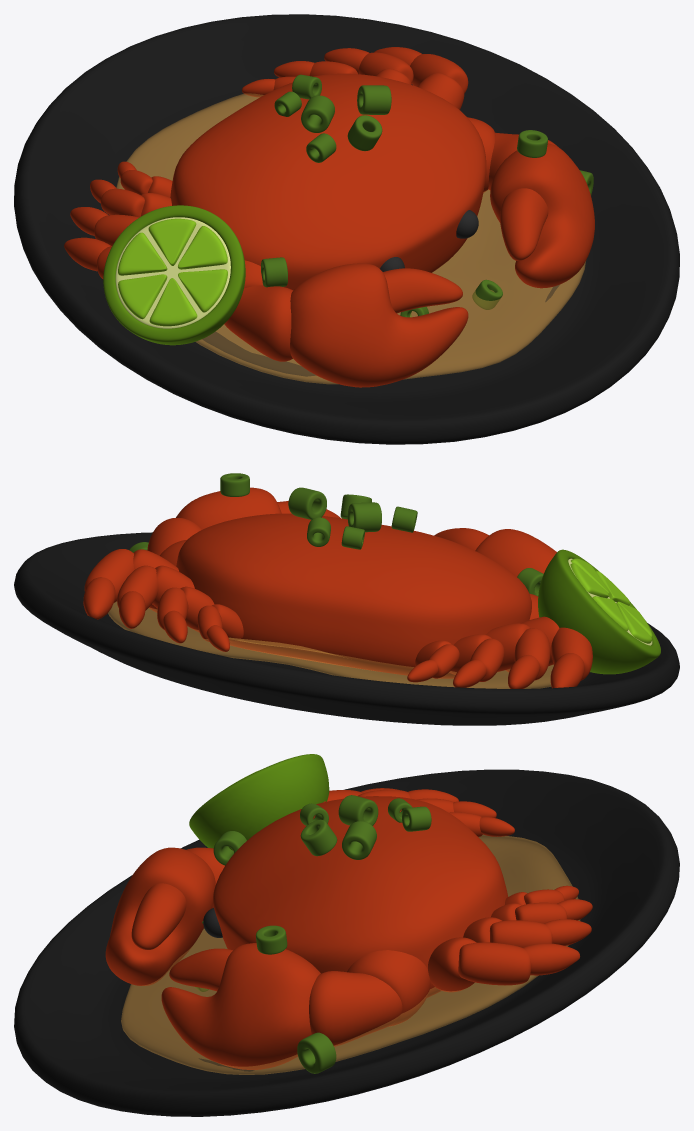
The picture shows the model from 3 angles, top to bottom: view 1: azimuth 30°, elevation 25°; view 2: azimuth 150°, elevation 25°; view 3: azimuth 270°, elevation 25°; orthographic projection. The views are drawn at different scales.
Visible parts, largest first — view 1: Circle.139, Cube.081, Plane.075, Circle.146, Circle.147, Sphere.058, Plane.076, Circle.138, Sphere.059, Circle.135, Circle.141, Circle.132 (+15 smaller); view 2: Cube.081, Circle.139, Circle.146, Sphere.058, Plane.075, Circle.132, Circle.147, Circle.135, Circle.133, Circle.134, Circle.136, Circle.141 (+16 smaller); view 3: Circle.139, Cube.081, Plane.075, Circle.146, Sphere.058, Circle.138, Plane.076, Circle.132, Circle.137, Circle.135, Circle.131, Circle.133 (+13 smaller).
Part boxes in pixels (left/top/right/bottom): Circle.139: left=14, top=14, right=679, bottom=444; Cube.081: left=170, top=73, right=486, bottom=290; Plane.075: left=290, top=143, right=594, bottom=387; Circle.146: left=116, top=93, right=585, bottom=384; Circle.147: left=118, top=218, right=227, bottom=326; Sphere.058: left=103, top=205, right=245, bottom=345; Plane.076: left=383, top=188, right=548, bottom=313; Circle.138: left=224, top=132, right=558, bottom=361; Sphere.059: left=115, top=217, right=230, bottom=328; Circle.135: left=94, top=52, right=413, bottom=245; Circle.141: left=100, top=61, right=357, bottom=217; Circle.132: left=97, top=54, right=468, bottom=278; Cube.081: left=176, top=513, right=531, bottom=678; Circle.139: left=14, top=532, right=679, bottom=725; Circle.146: left=108, top=601, right=553, bottom=688; Sphere.058: left=538, top=549, right=660, bottom=674; Plane.075: left=176, top=487, right=556, bottom=576; Circle.132: left=84, top=549, right=592, bottom=680; Circle.147: left=570, top=558, right=652, bottom=643; Circle.135: left=117, top=565, right=550, bottom=680; Circle.133: left=83, top=577, right=584, bottom=688; Circle.134: left=152, top=565, right=530, bottom=671; Circle.136: left=119, top=591, right=540, bottom=688; Circle.141: left=157, top=587, right=504, bottom=681; Circle.139: left=14, top=769, right=679, bottom=1116; Cube.081: left=213, top=796, right=507, bottom=997; Plane.075: left=105, top=847, right=320, bottom=1069; Circle.146: left=121, top=834, right=580, bottom=1074; Sphere.058: left=189, top=754, right=329, bottom=850; Circle.138: left=186, top=847, right=402, bottom=1046; Plane.076: left=131, top=883, right=232, bottom=991; Circle.132: left=327, top=790, right=531, bottom=985; Circle.137: left=347, top=950, right=430, bottom=1026; Circle.135: left=358, top=789, right=552, bottom=947; Circle.131: left=323, top=801, right=476, bottom=992; Circle.133: left=361, top=788, right=580, bottom=975.
Bounding box in the file's own units: 3.29 × 1.23 × 3.18.
